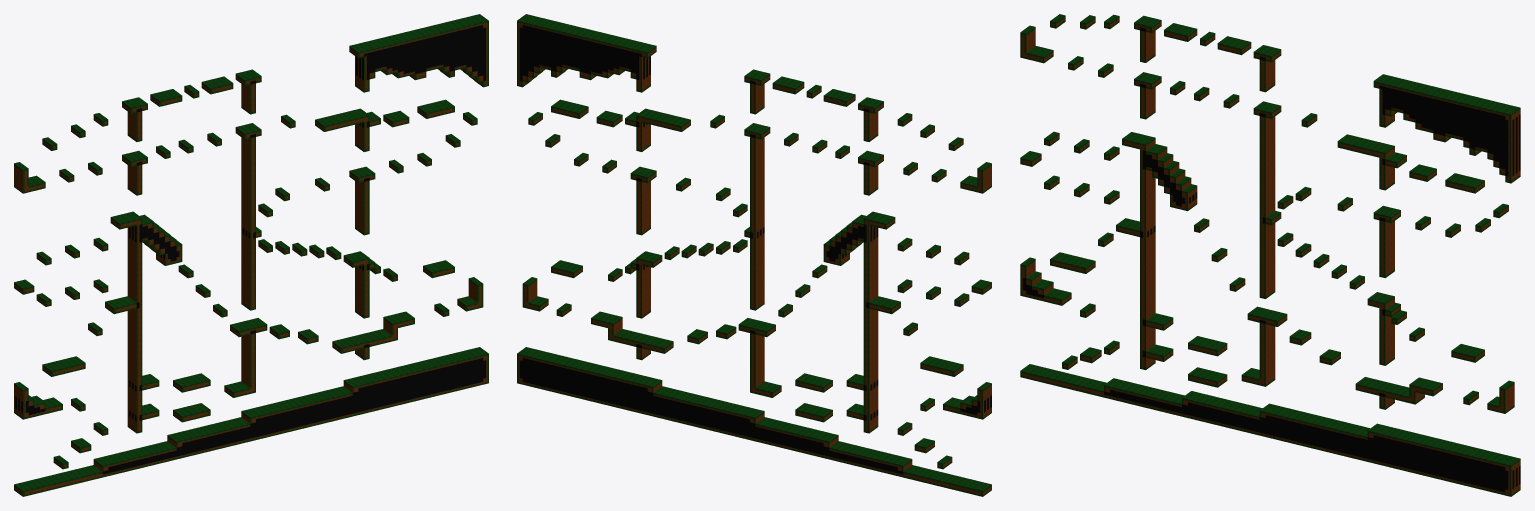
The model's file is Luna0TwilightSolo.glb.
3 renders of one model, left to right at view 1: azimuth 30°, elevation 25°; view 2: azimuth 150°, elevation 25°; view 3: azimuth 330°, elevation 25°, orthographic. The views are drawn at different scales.
Visible parts, largest first — view 1: Setor_1, Setor_0, Setor_2; view 2: Setor_1, Setor_0, Setor_2; view 3: Setor_1, Setor_0, Setor_2.
Part boxes in pixels (<box>): Setor_1: <box>195,39,386,452</box>; Setor_0: <box>14,85,204,496</box>; Setor_2: <box>378,14,488,407</box>; Setor_1: <box>619,39,810,452</box>; Setor_0: <box>801,85,991,496</box>; Setor_2: <box>517,14,627,407</box>; Setor_1: <box>1211,36,1412,470</box>; Setor_0: <box>1020,14,1220,423</box>; Setor_2: <box>1403,81,1520,496</box>.
Bounding box in the file's own units: 85.28 × 63.44 × 2.88.
1 material, 1 textured.
